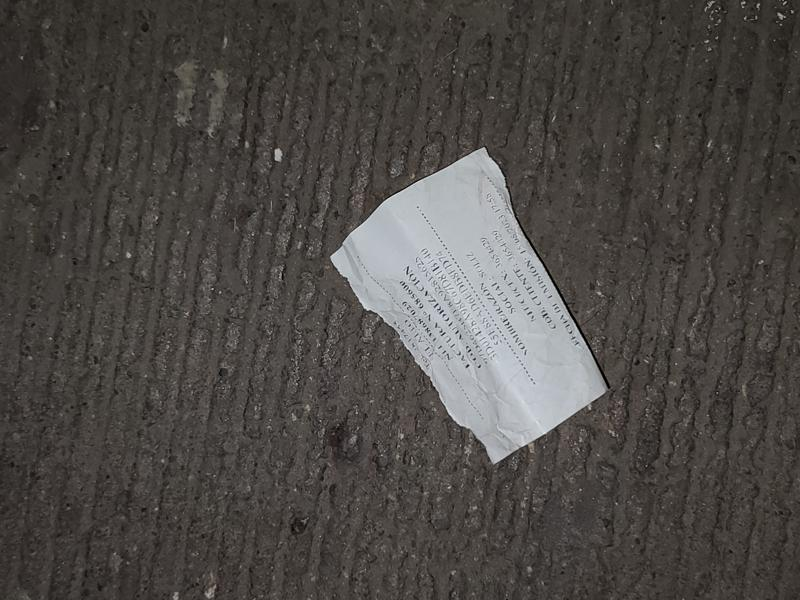papel: (329, 149, 609, 466)
